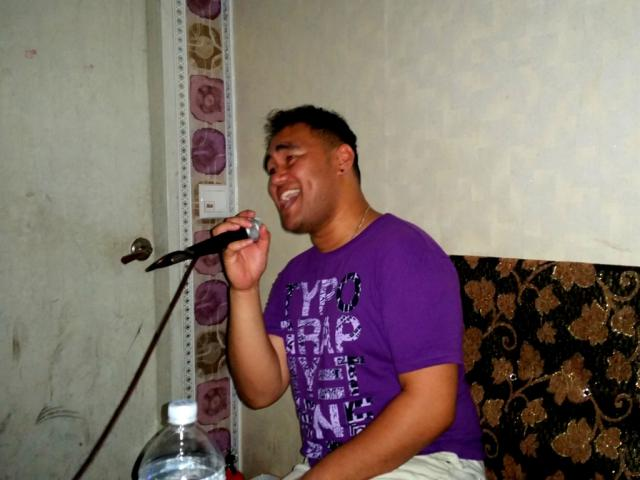Door-handle: (116, 236, 158, 267)
